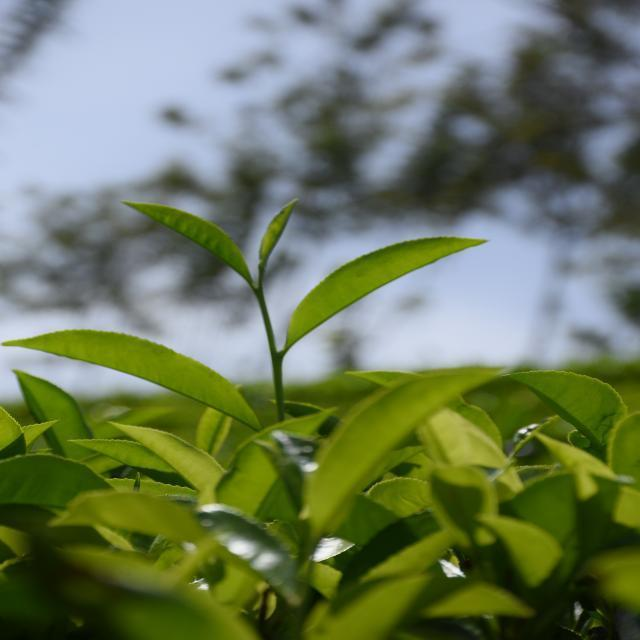Stem: (254, 288, 264, 299)
